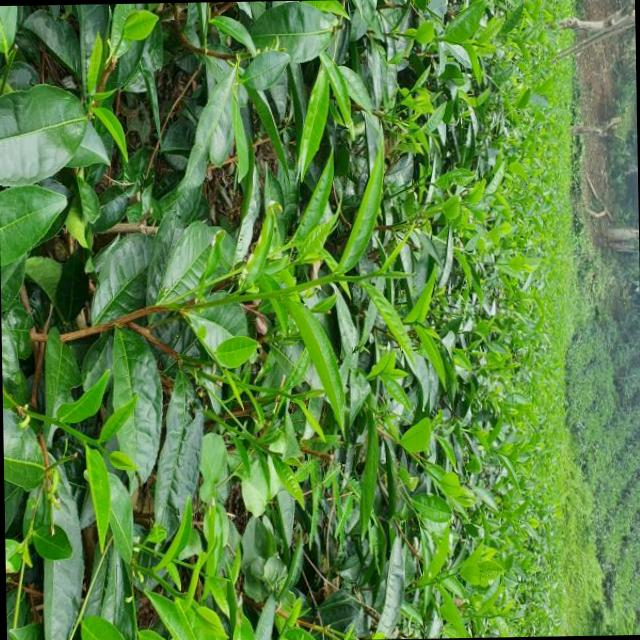Stem: (313, 273, 332, 286), (70, 429, 84, 440), (136, 564, 150, 574), (278, 391, 291, 398), (430, 473, 436, 480), (431, 37, 441, 41)
